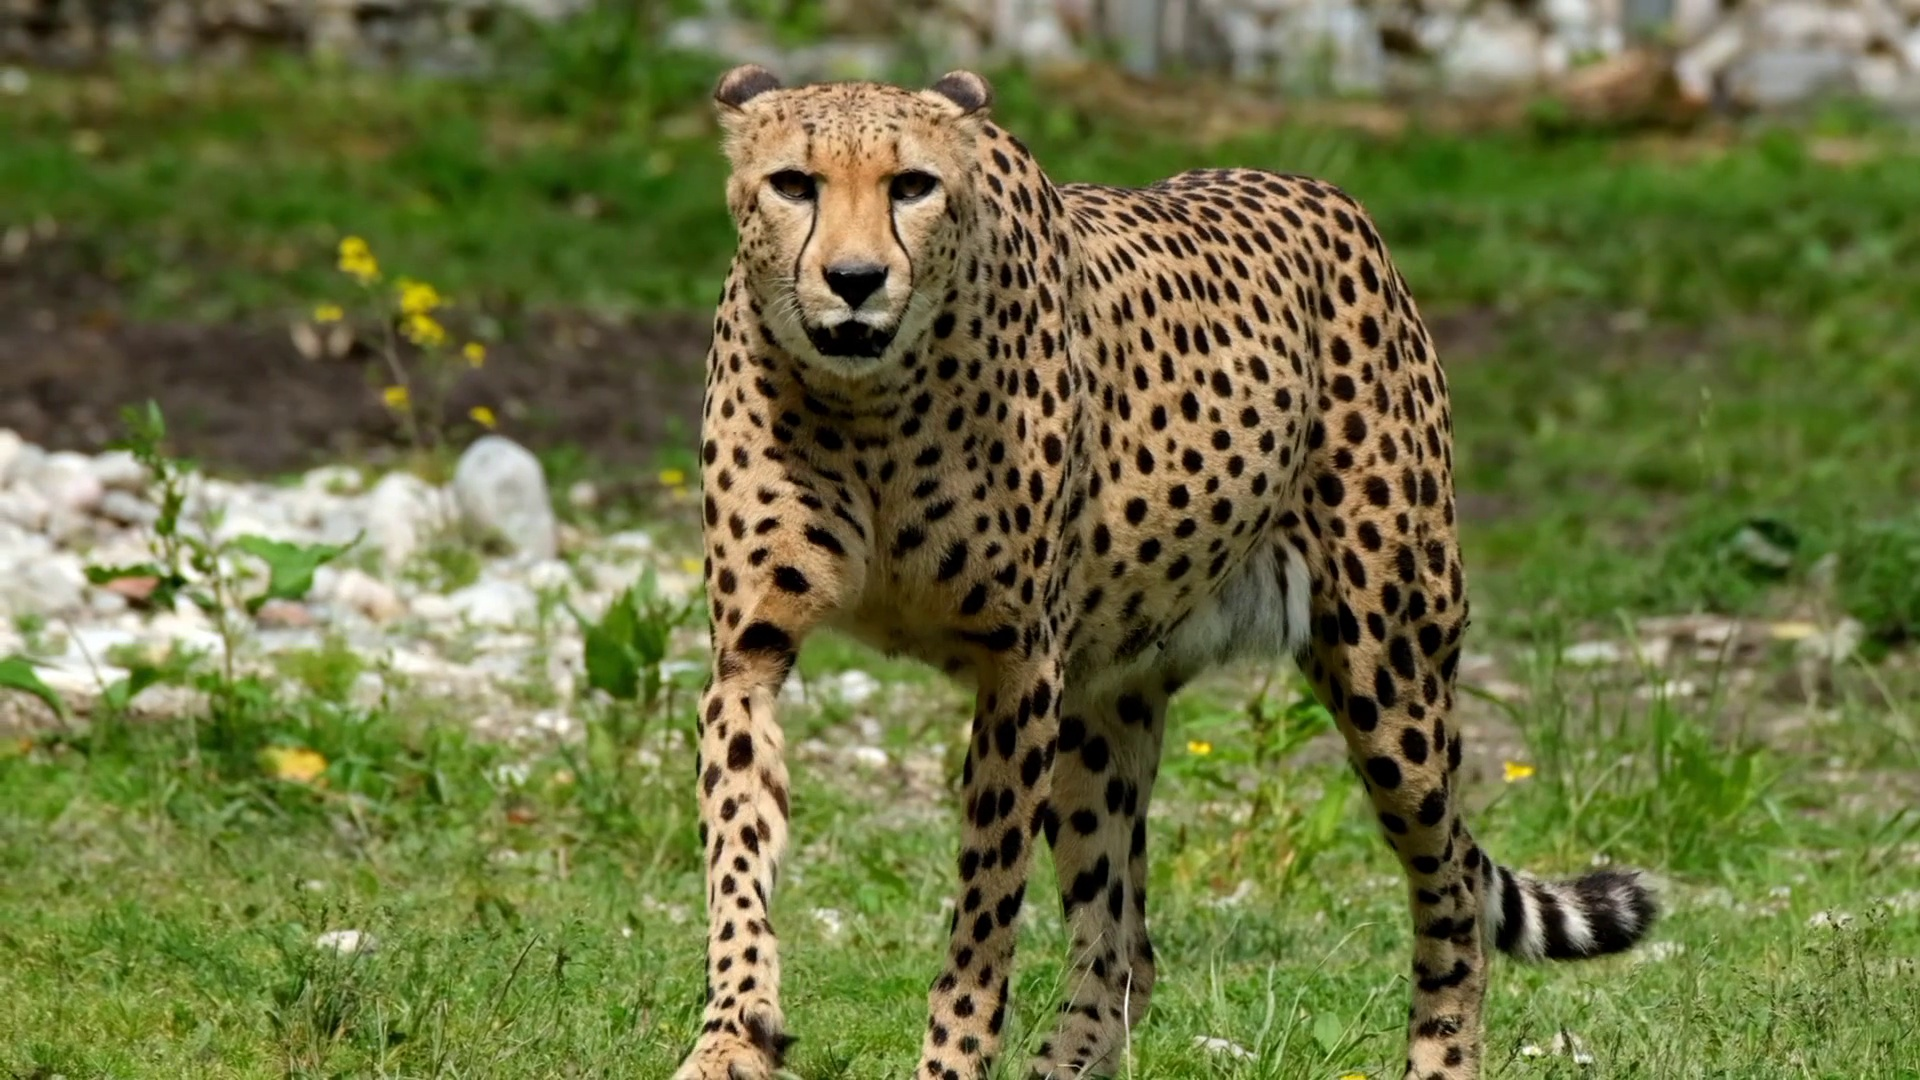Cheetah: (658, 62, 1664, 1080)
